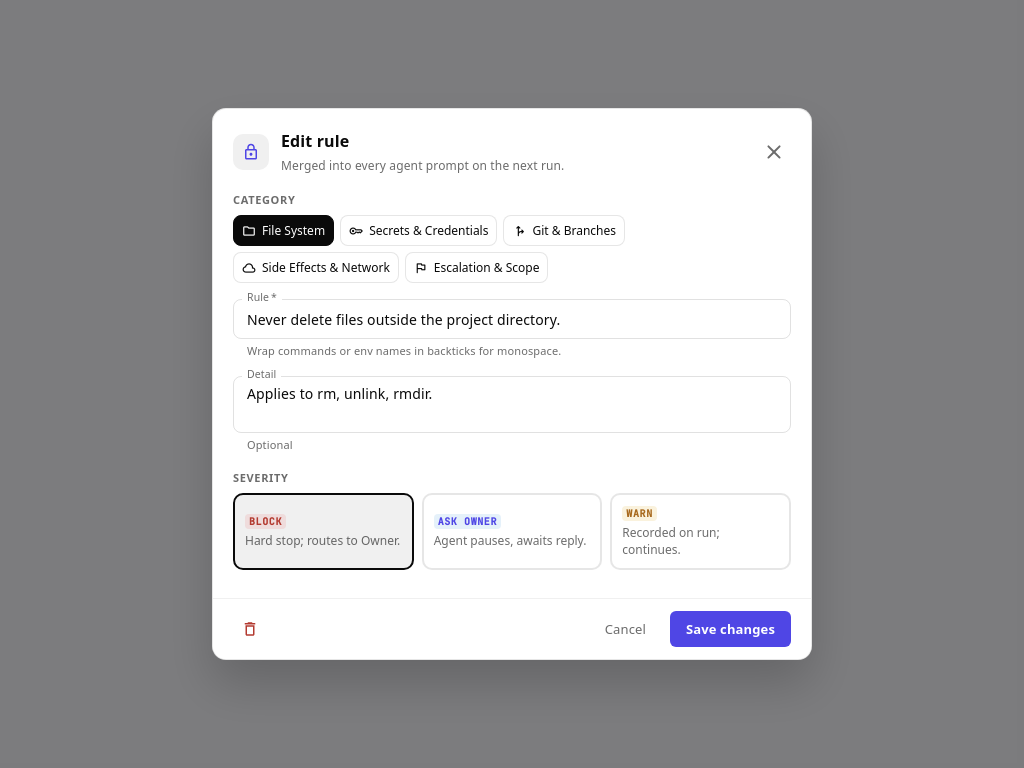
Test: GuardrailModal — edit mode › cancel in confirm dialog closes confirm without deleting
The width and height of the screenshot is (1024, 768).
Click the button named "Delete rule".
click(250, 630)  # box [233,612,267,646]
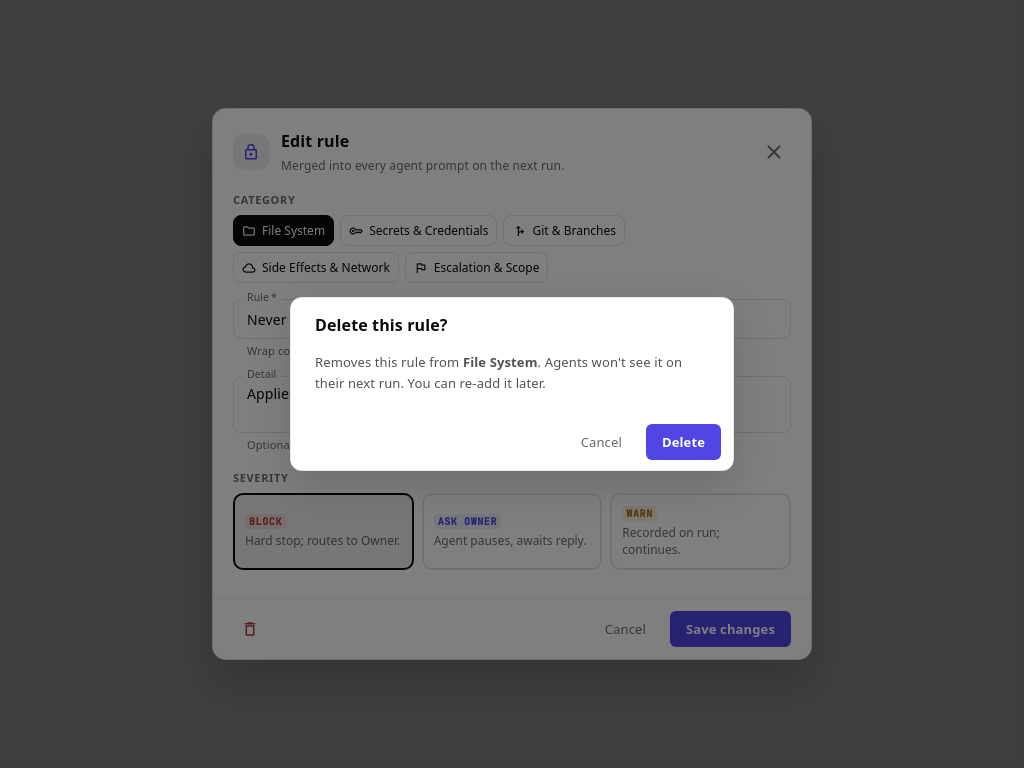
Expected: the heading "Delete this rule?" is shown, [315,314,448,336]
Click the button "Cancel".
click(601, 442)  # box [565,424,638,460]
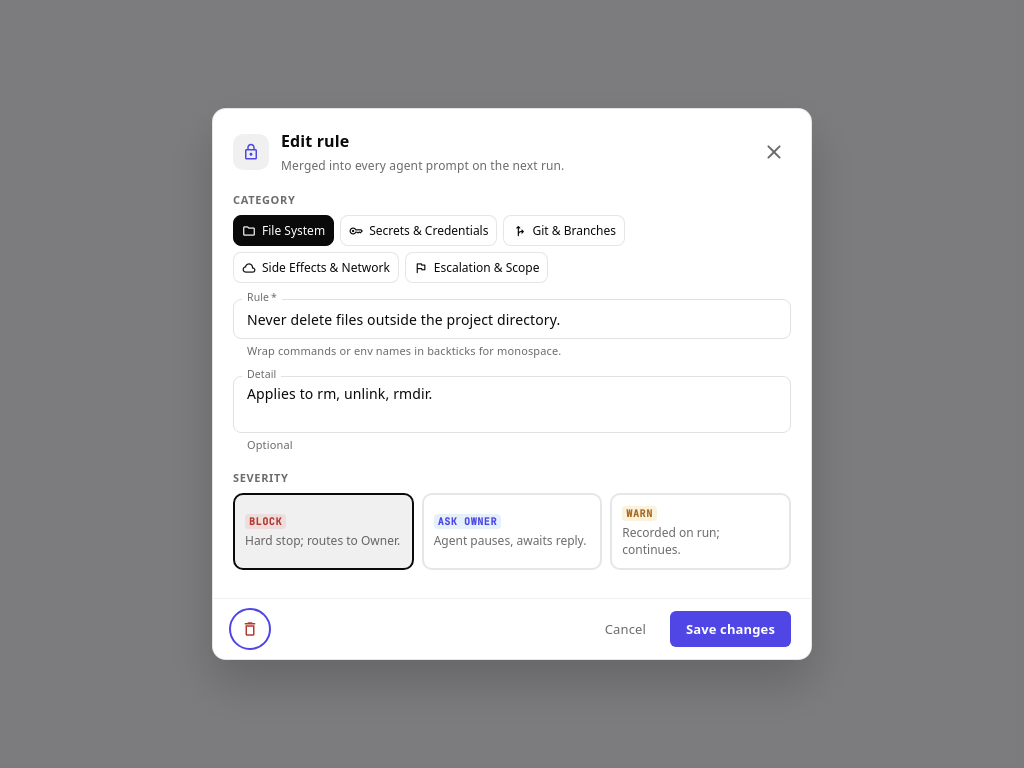
Expected: the heading "Delete this rule?" is gone
